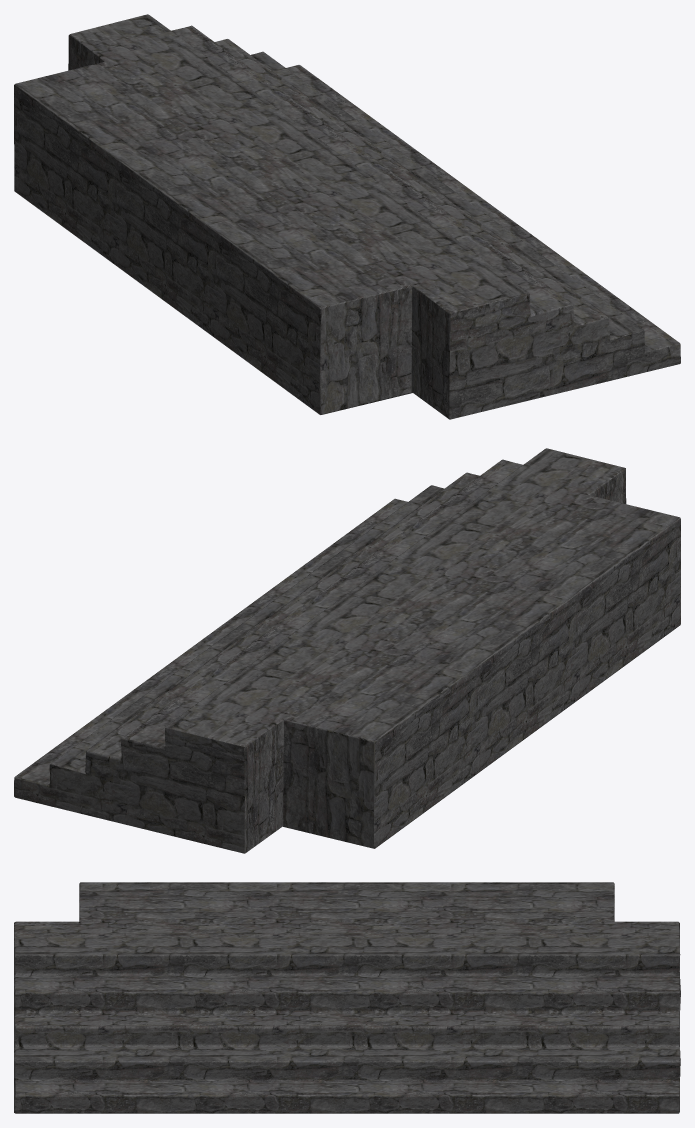
Rendered from SM_Church08.fbx.
The picture shows the model from 3 angles, top to bottom: view 1: azimuth 30°, elevation 25°; view 2: azimuth 150°, elevation 25°; view 3: azimuth 270°, elevation 25°; orthographic projection. The views are drawn at different scales.
Parts seen in each view (by area): view 1: SM_Church08_LOD0; view 2: SM_Church08_LOD0; view 3: SM_Church08_LOD0.
Part boxes in pixels (x1=…): SM_Church08_LOD0: x1=14, y1=14, x2=680, y2=419; SM_Church08_LOD0: x1=14, y1=448, x2=680, y2=853; SM_Church08_LOD0: x1=14, y1=882, x2=680, y2=1113.
Size of the model in its own units: 390 by 797 by 124.
